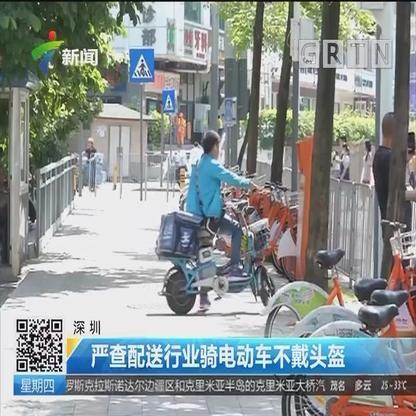target: (155, 129, 278, 315)
